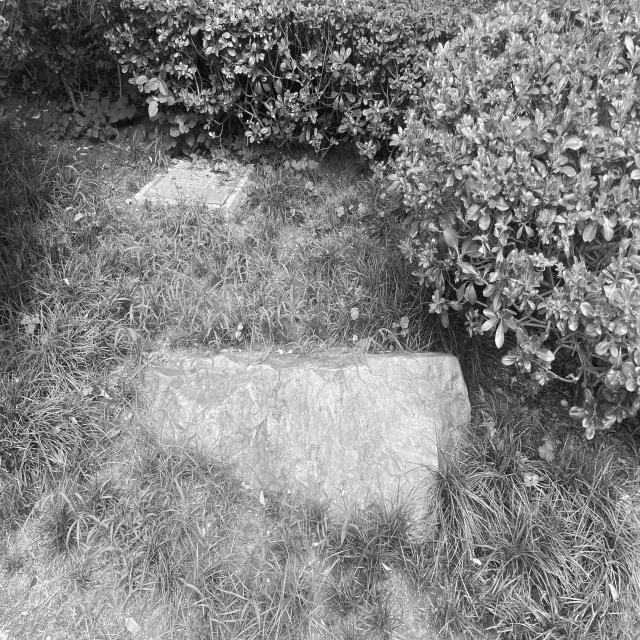Stone: (144, 352, 470, 510)
